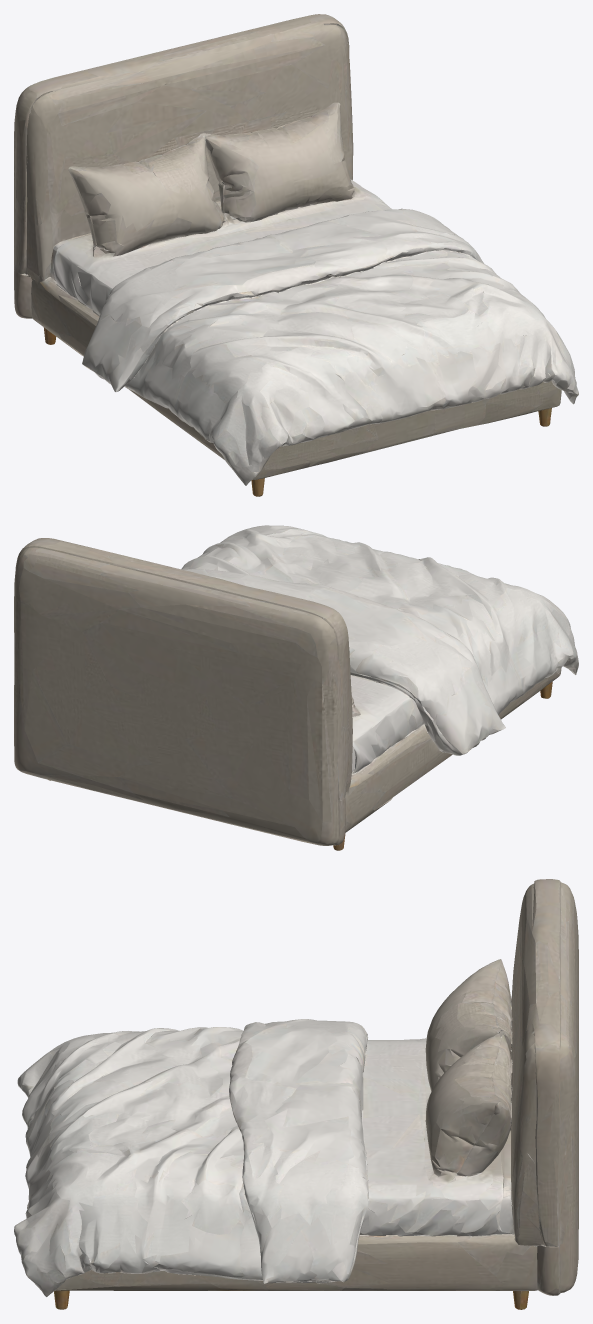
3 renders of one model, top to bottom at view 1: azimuth 30°, elevation 25°; view 2: azimuth 150°, elevation 25°; view 3: azimuth 270°, elevation 25°, orthographic. The views are drawn at different scales.
Visible parts, largest first — view 1: Mesh_0; view 2: Mesh_0; view 3: Mesh_0.
Part boxes in pixels (x1,y1,x2,y2): Mesh_0: (14, 14, 578, 496); Mesh_0: (14, 525, 578, 850); Mesh_0: (14, 879, 578, 1309).
Bounding box in the file's own units: 1.81 × 1.1 × 2.04.
Materials: 1 (1 with a texture image).
